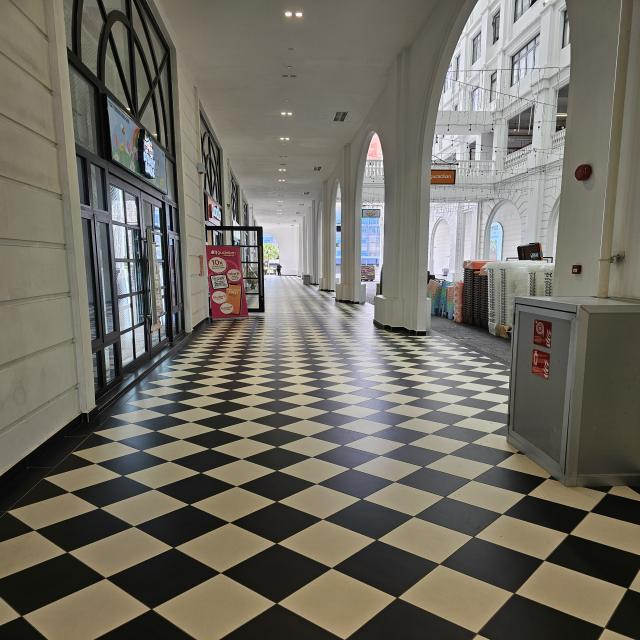footpath: (1, 395, 515, 640)
obstacle: (505, 294, 640, 486), (200, 221, 269, 318)
